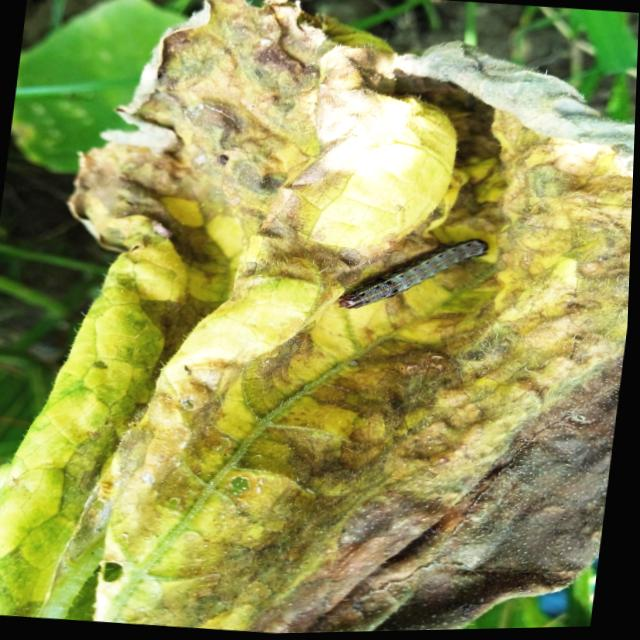Gummy-Stem-Blight: (245, 345, 625, 633), (55, 0, 375, 318)
